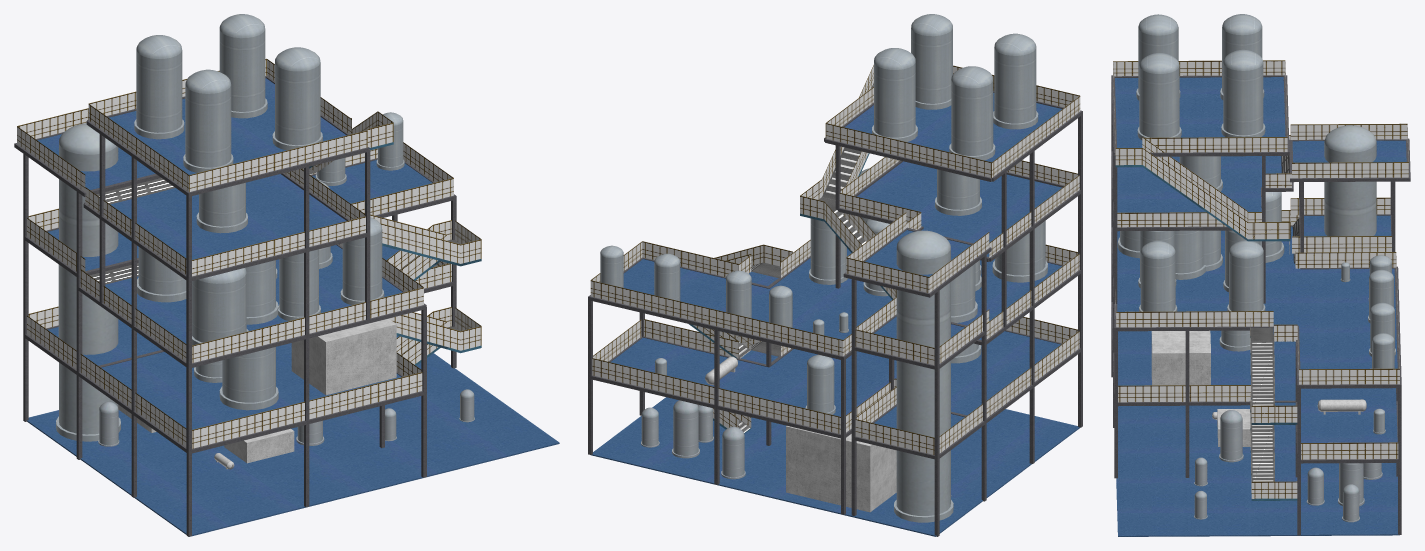
The model's file is tileset.gltf.
The picture shows the model from 3 angles, left to right: view 1: azimuth 30°, elevation 25°; view 2: azimuth 150°, elevation 25°; view 3: azimuth 270°, elevation 25°; orthographic projection. The views are drawn at different scales.
Parts seen in each view (by area): view 1: 404工段氢溴酸小工段-5F-1F, 404工段氢溴酸小工段-5F-3F, 404工段氢溴酸小工段-5F-2F, 404工段氢溴酸小工段-5F-5F, 404工段氢溴酸小工段-5F-4F; view 2: 404工段氢溴酸小工段-5F-3F, 404工段氢溴酸小工段-5F-2F, 404工段氢溴酸小工段-5F-1F, 404工段氢溴酸小工段-5F-5F, 404工段氢溴酸小工段-5F-4F; view 3: 404工段氢溴酸小工段-5F-3F, 404工段氢溴酸小工段-5F-1F, 404工段氢溴酸小工段-5F-2F, 404工段氢溴酸小工段-5F-5F, 404工段氢溴酸小工段-5F-4F.
Part boxes in pixels (x1,y1,x2,y2): 404工段氢溴酸小工段-5F-1F: (23,285,559,536); 404工段氢溴酸小工段-5F-3F: (23,112,456,369); 404工段氢溴酸小工段-5F-2F: (23,200,481,454); 404工段氢溴酸小工段-5F-5F: (86,14,393,196); 404工段氢溴酸小工段-5F-4F: (14,108,370,282); 404工段氢溴酸小工段-5F-3F: (588,168,1082,381); 404工段氢溴酸小工段-5F-2F: (588,256,1082,459); 404工段氢溴酸小工段-5F-1F: (588,341,1082,536); 404工段氢溴酸小工段-5F-5F: (824,14,1082,181); 404工段氢溴酸小工段-5F-4F: (800,82,1082,302); 404工段氢溴酸小工段-5F-3F: (1111,159,1401,389); 404工段氢溴酸小工段-5F-1F: (1111,310,1401,536); 404工段氢溴酸小工段-5F-2F: (1111,235,1401,463); 404工段氢溴酸小工段-5F-5F: (1111,14,1289,167); 404工段氢溴酸小工段-5F-4F: (1111,85,1410,241).
Size of the model in its own units: 16.21 by 17.77 by 12.69.
11 materials, 11 textured.
